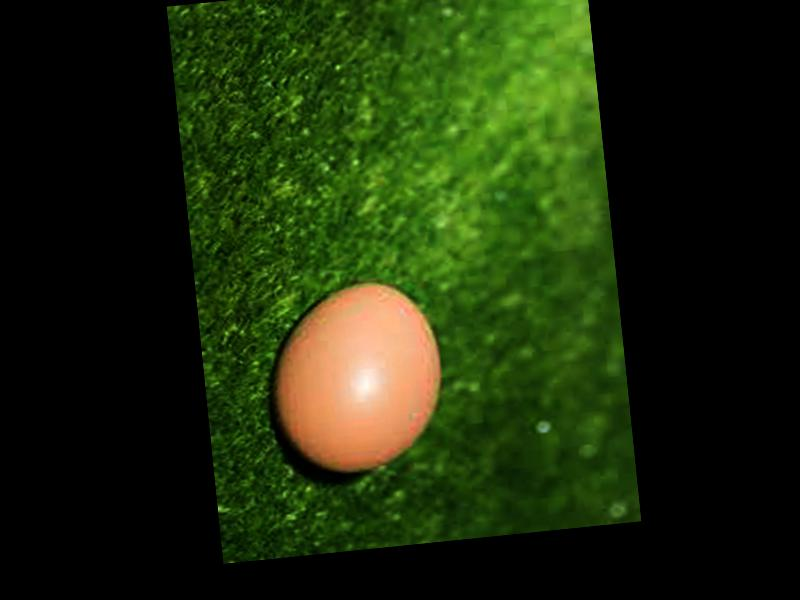Eggs: (259, 274, 448, 482)
